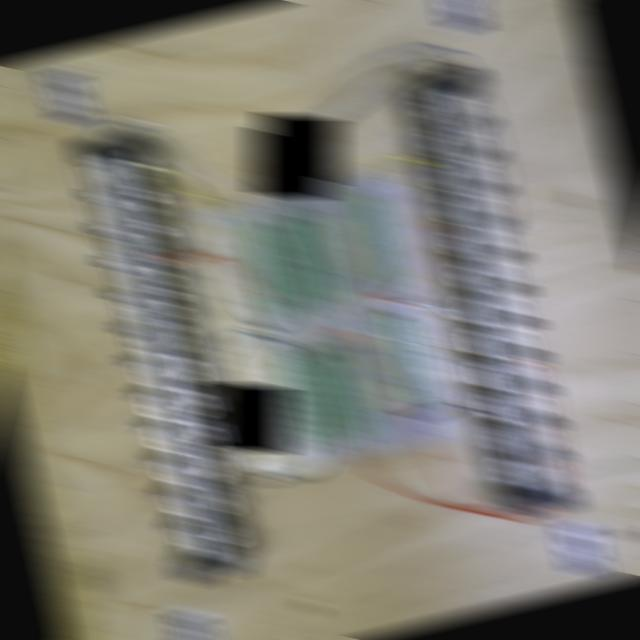Flathead_Block: (409, 62, 580, 519)
Phillips_Block: (71, 127, 247, 585)
Terminal_1: (379, 311, 430, 410), (351, 193, 402, 291)
Terminal_2: (301, 350, 352, 444), (296, 209, 347, 302), (327, 343, 377, 437), (269, 216, 319, 309), (243, 224, 292, 317)
